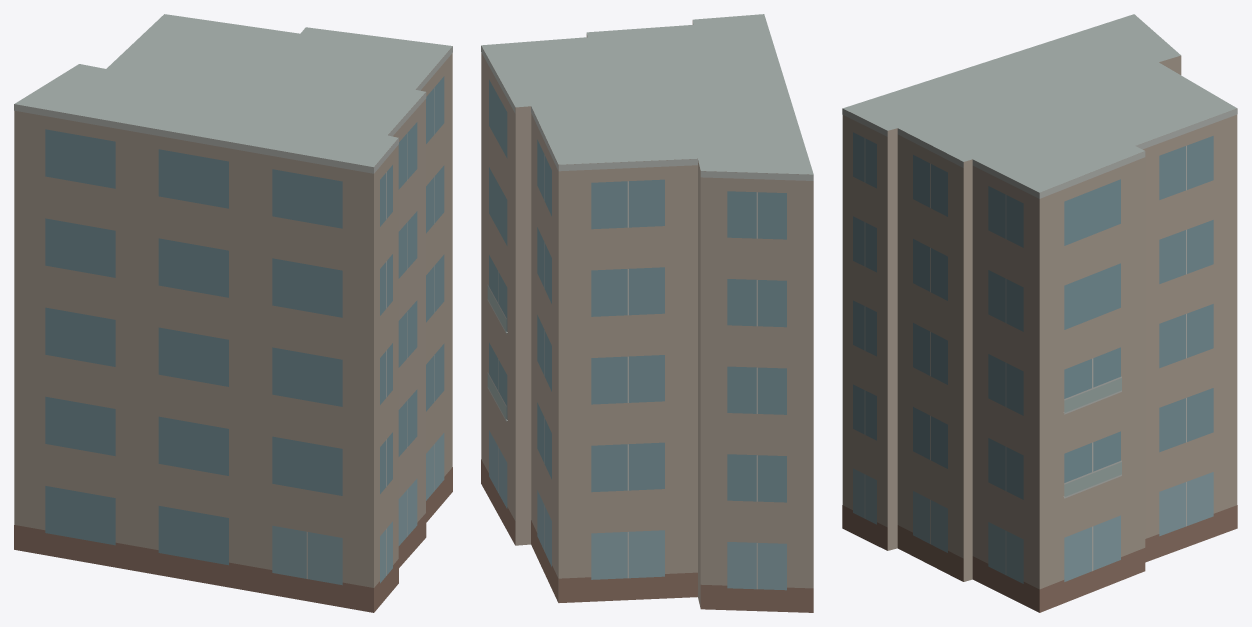
The model's file is survey-upis-32694158.glb.
3 renders of one model, left to right at view 1: azimuth 30°, elevation 25°; view 2: azimuth 150°, elevation 25°; view 3: azimuth 270°, elevation 25°, orthographic. The views are drawn at different scales.
Parts seen in each view (by area): view 1: survey-upis-32694158.tmp; view 2: survey-upis-32694158.tmp; view 3: survey-upis-32694158.tmp.
Part boxes in pixels (x1,y1,x2,y2): survey-upis-32694158.tmp: (14, 14, 452, 612); survey-upis-32694158.tmp: (481, 14, 813, 612); survey-upis-32694158.tmp: (842, 14, 1237, 612).
Size of the model in its own units: 15.07 by 16.51 by 14.07.
